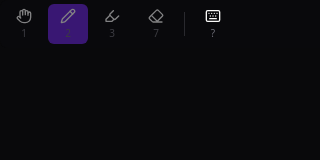
AnnotationToolbar › annotation permissions (Story 5.3) › shows permission tooltip for tool buttons when user cannot annotate
This screenshot has width=320, height=160.
// Hover the wrapper span - disabled buttons don't receive pointer events
Hover over the element with test id "tool-button-pen-wrapper" at (68, 24), box [48,4,88,44]
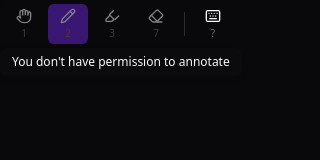
Expected: the tooltip reads "You don't have permission to annotate", [12,53,230,70]
